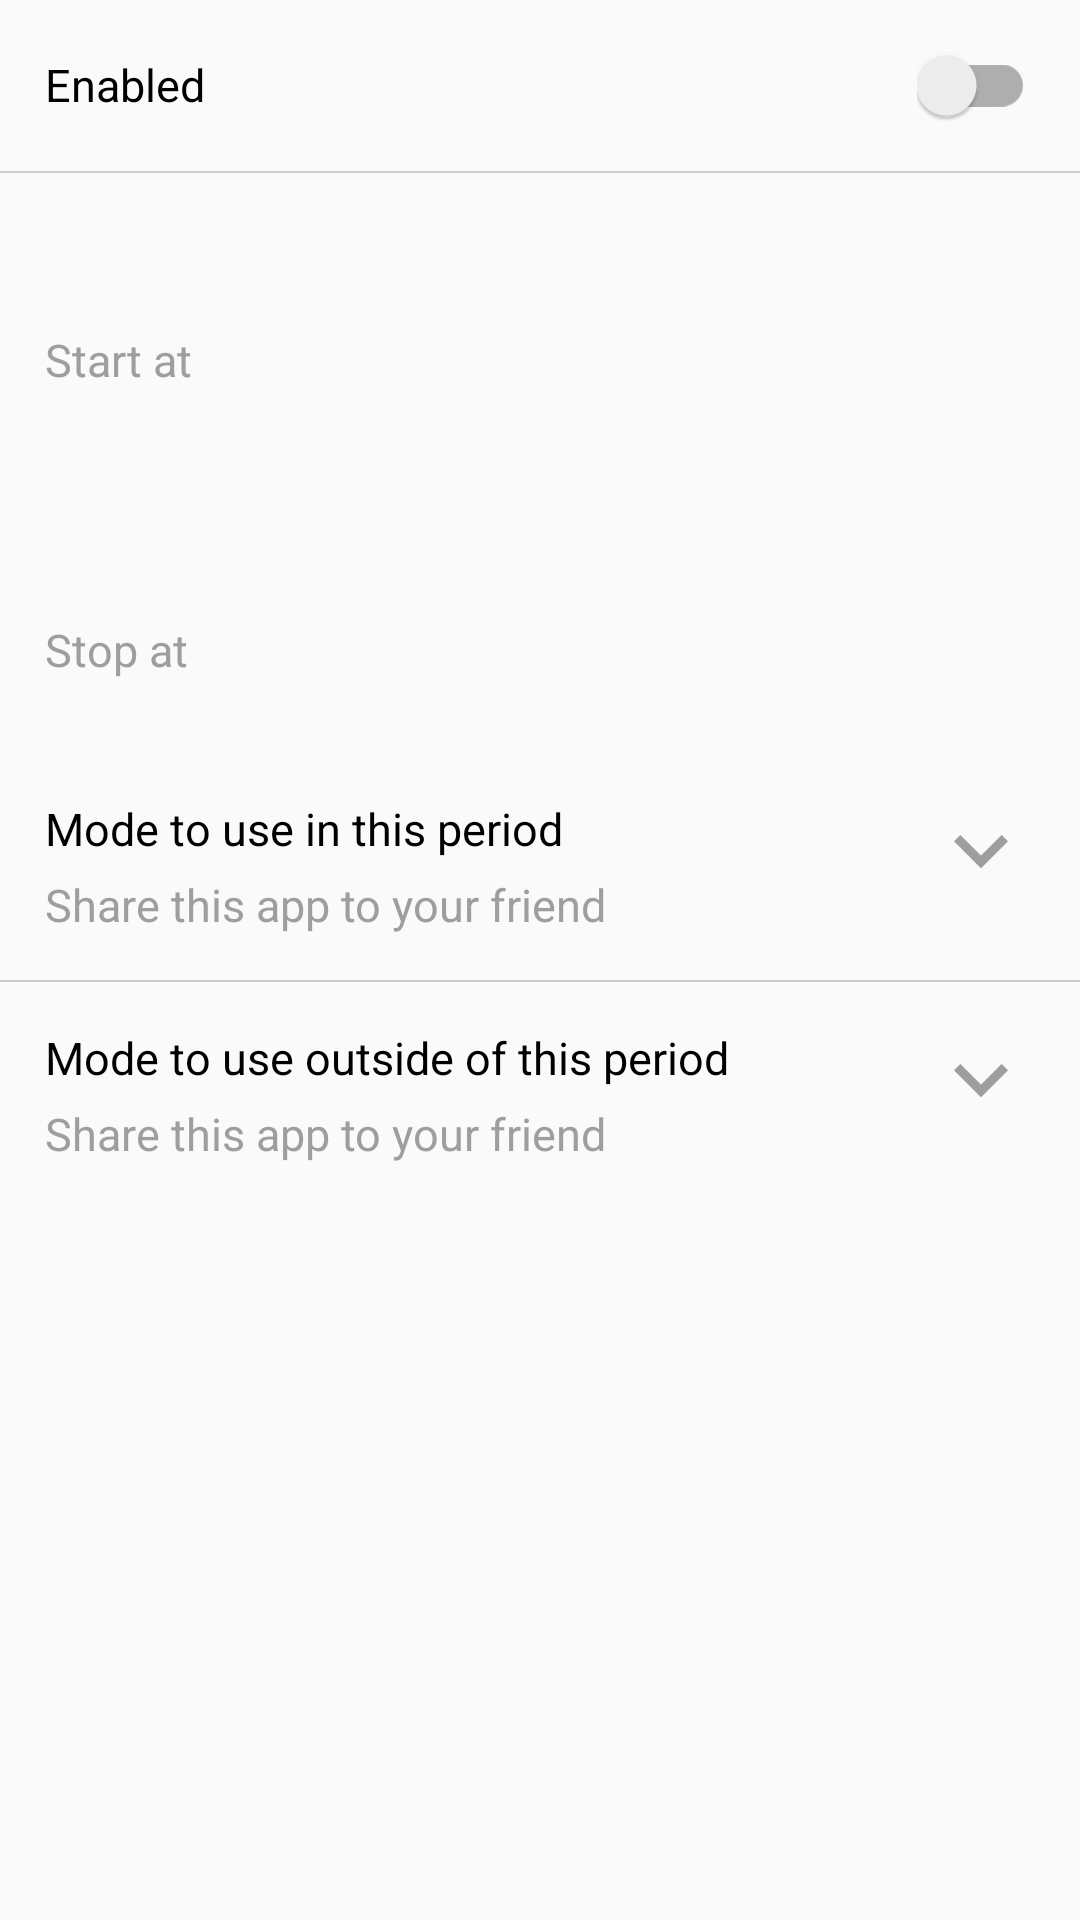

Icon bounding boxes for this 1080px×1920px phone screenshot, format BBox(x1, y1, x2, y2):
keyboard arrow down: BBox(954, 835, 1008, 868), BBox(954, 1064, 1008, 1097)
